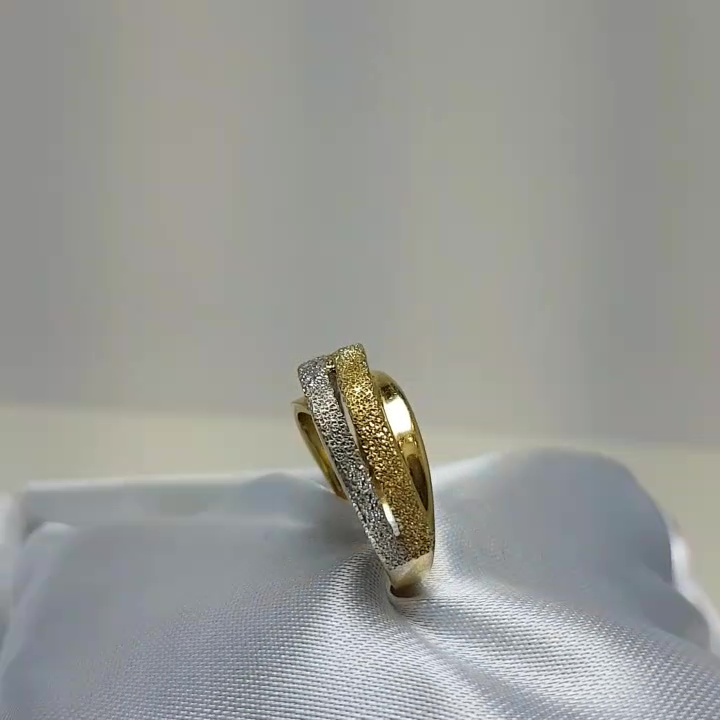Ring 5: (242, 348, 473, 595)
